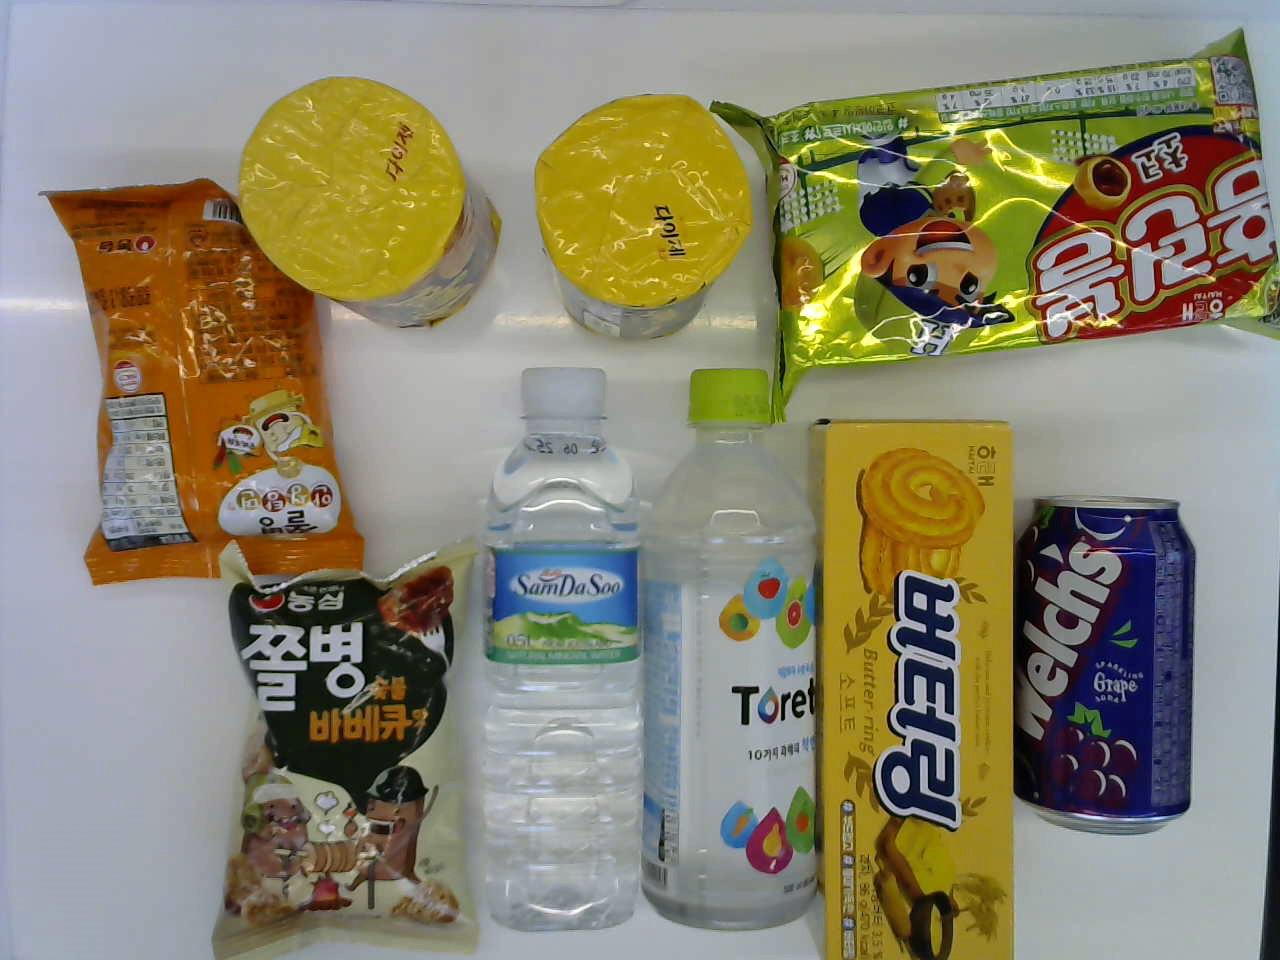buttering: (819, 403, 1015, 956)
diget_choco: (530, 85, 760, 338)
diget_ori: (236, 70, 505, 333)
homerunball: (771, 66, 1280, 372)
jjolbyung_noodle: (47, 173, 340, 568)
jjolbyung_ori: (198, 550, 474, 946)
samdasu: (480, 369, 645, 923)
toreta: (655, 369, 820, 923)
welchs: (1012, 492, 1201, 828)
